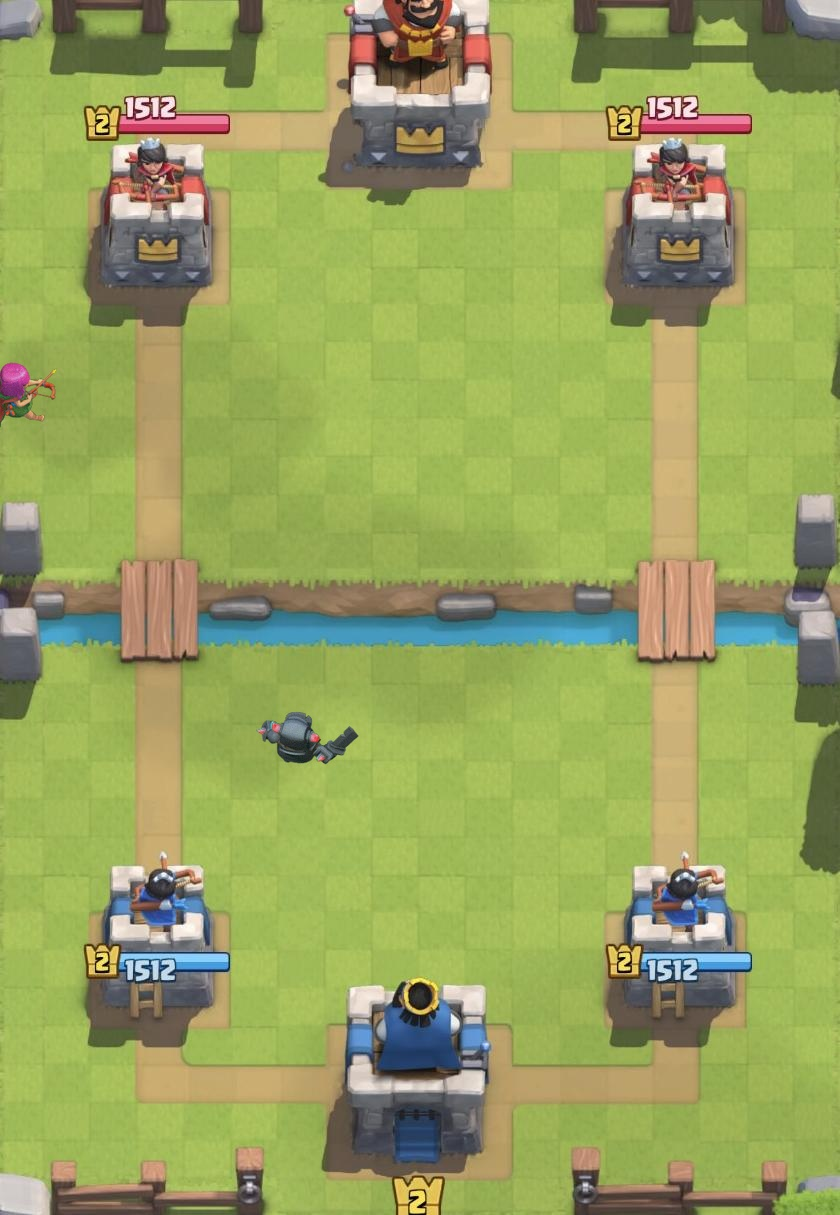archer_enemy: (0, 362, 57, 428)
mekka_enemy: (256, 711, 359, 765)
